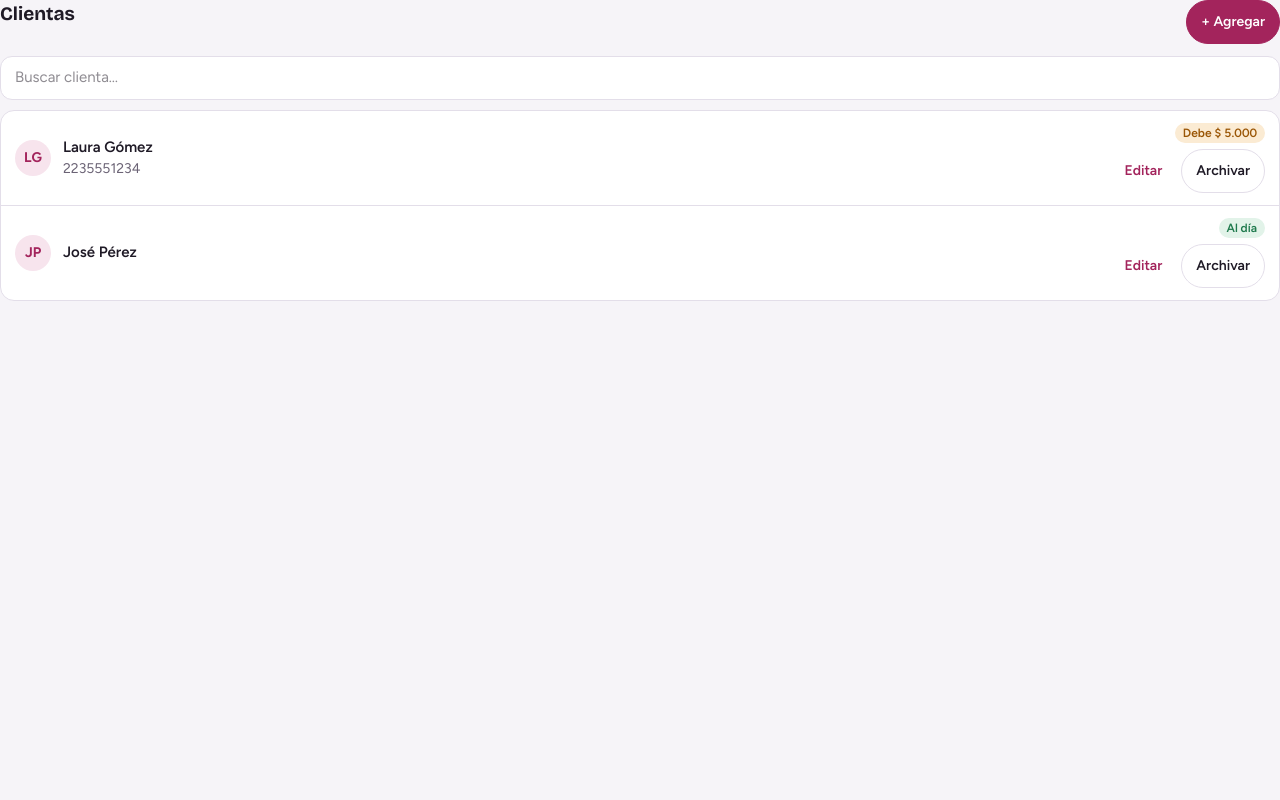
Test case: CustomersView › abre la hoja de alta al tocar + Agregar
The image size is (1280, 800).
Click the button "+ Agregar" at point(1233, 22), box [1186, 0, 1279, 44]
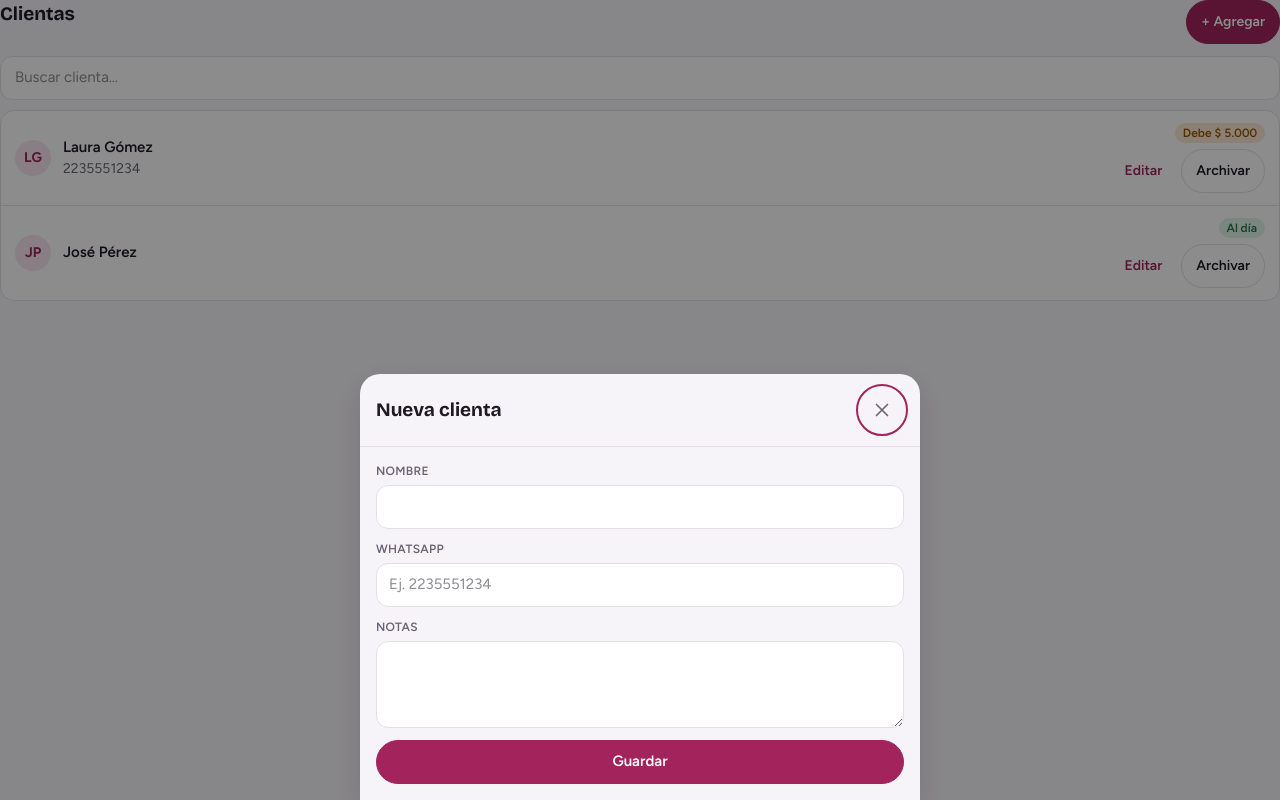
Now the heading "Nueva clienta" is shown, box [376, 396, 502, 424]
